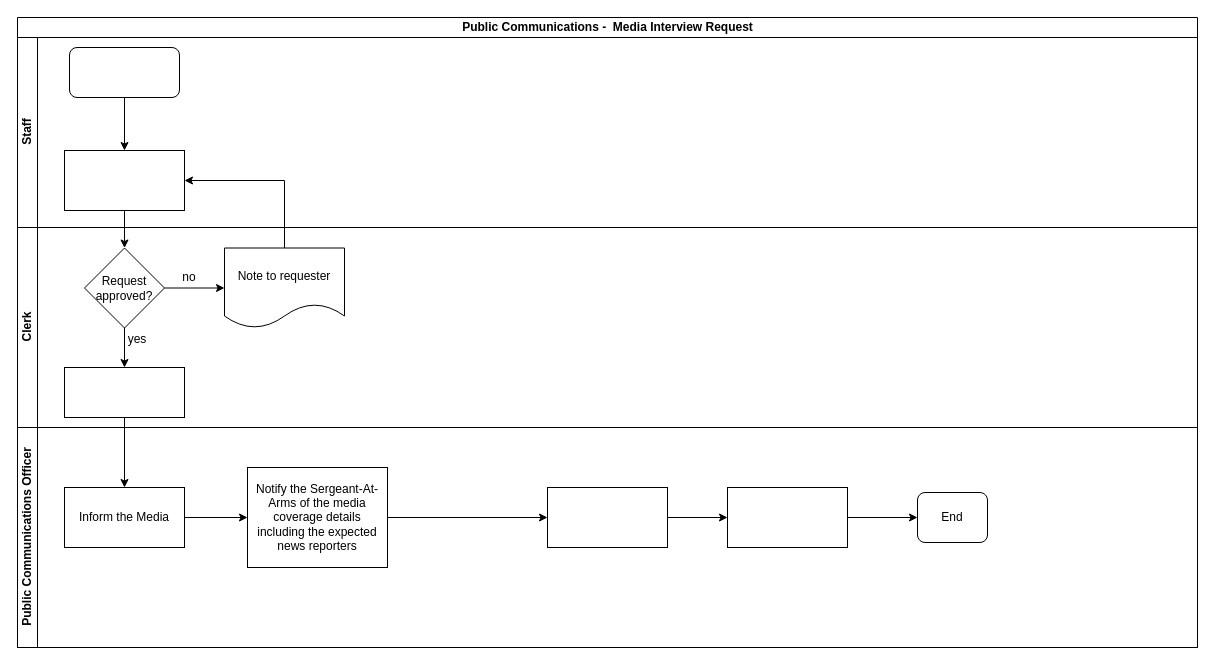
This 1215x665 diagram has some shape labels left out. Here are the shapes that lost their labels. From the top down, the centre of each, then its label:
At pixel 124 72: "Start".
At pixel 124 180: "Request for media brief coverage".
At pixel 124 392: "Forward to the Public Communications Officer".
At pixel 607 517: "Arrange for the press conference coverage".
At pixel 787 517: "Track media coverage reports".
